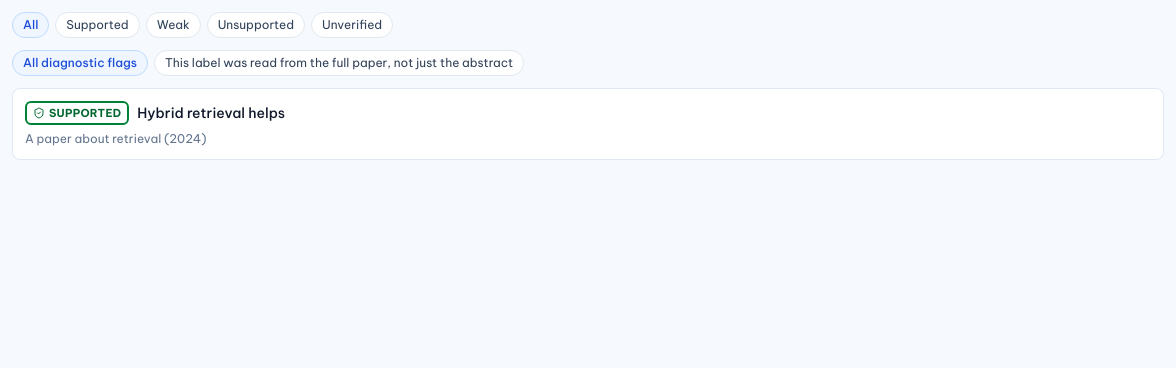
the why-this-label page › renders diagnostic flags as sentences, not bare enum codes
Click the button "Hybrid retrieval helps": [77, 113] box [13, 89, 1163, 159]
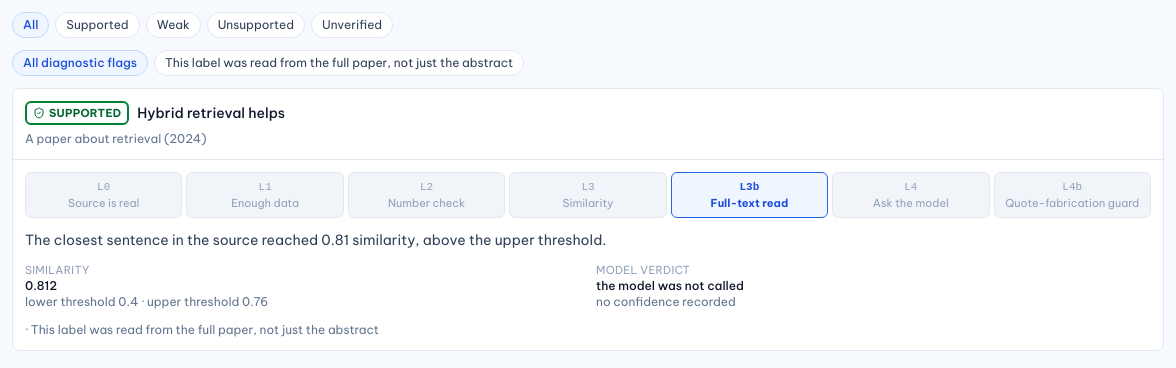
expect the list item "· This label was read from the full paper" is shown: met, box [25, 322, 379, 337]
